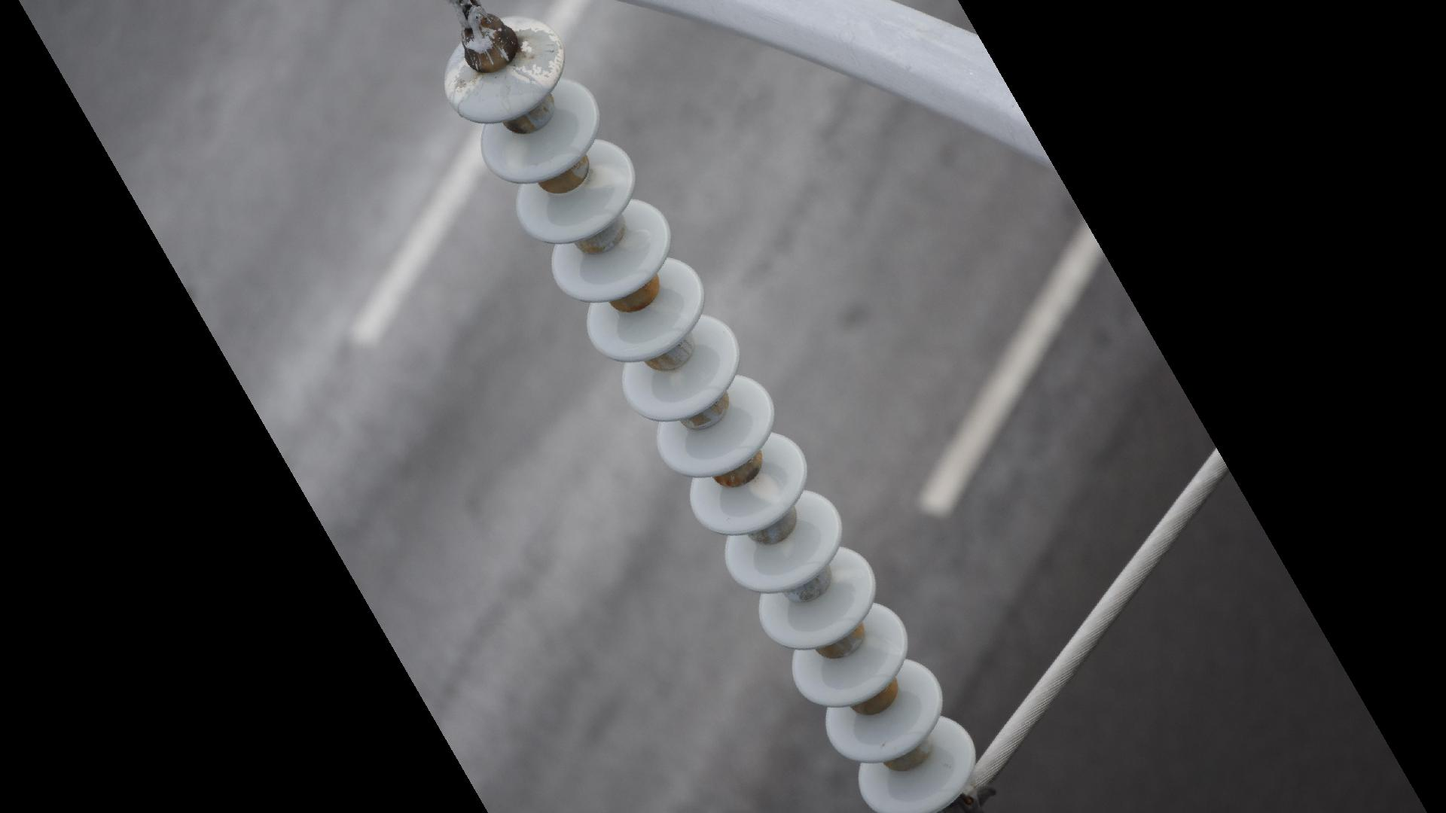insulator: (438, 9, 984, 813)
insulator_flashover: (506, 22, 569, 94), (441, 56, 484, 115)
